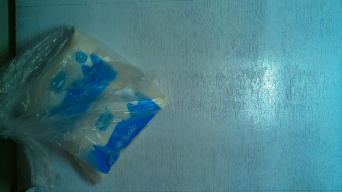m: (17, 26, 170, 181)
